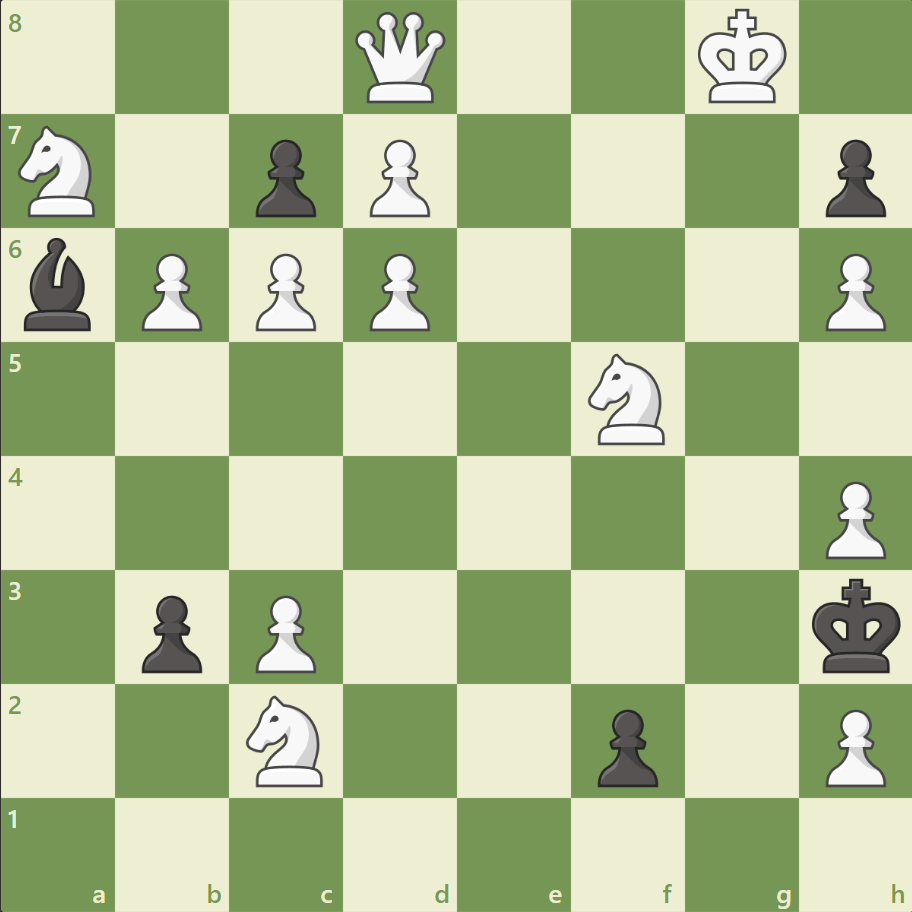K: (692, 4, 792, 112)
N: (238, 688, 335, 791), (11, 121, 108, 223), (579, 348, 676, 450)
P: (133, 246, 208, 337), (247, 246, 322, 337), (247, 586, 322, 677), (361, 132, 435, 223), (361, 246, 435, 337), (815, 246, 889, 337), (815, 473, 889, 564), (815, 700, 889, 791)
Q: (351, 9, 450, 108)
b: (17, 233, 101, 336)
k: (806, 571, 906, 679)
p: (247, 132, 322, 223), (133, 586, 208, 677), (815, 132, 889, 223), (588, 700, 662, 791)
